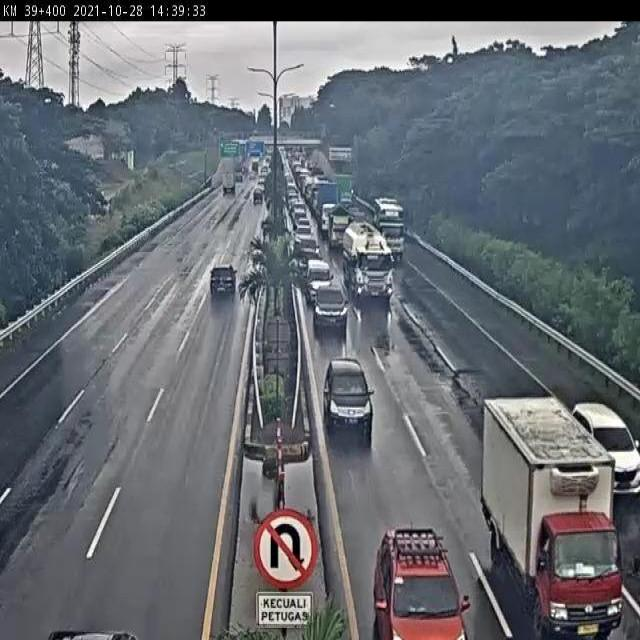big bus: (368, 194, 409, 254)
big truck: (485, 392, 622, 637), (345, 223, 392, 305)
car: (366, 504, 467, 640), (566, 400, 640, 497), (321, 352, 374, 427), (311, 280, 347, 328), (203, 261, 241, 299), (302, 258, 335, 286), (296, 232, 325, 257)
